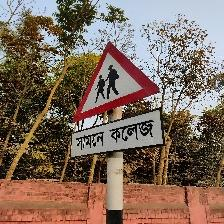College-in-front: (70, 47, 197, 189)
